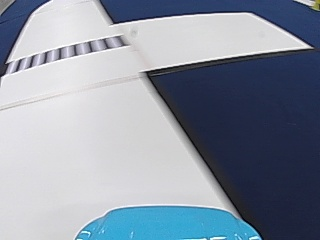CrossWalk: (15, 34, 125, 67)
